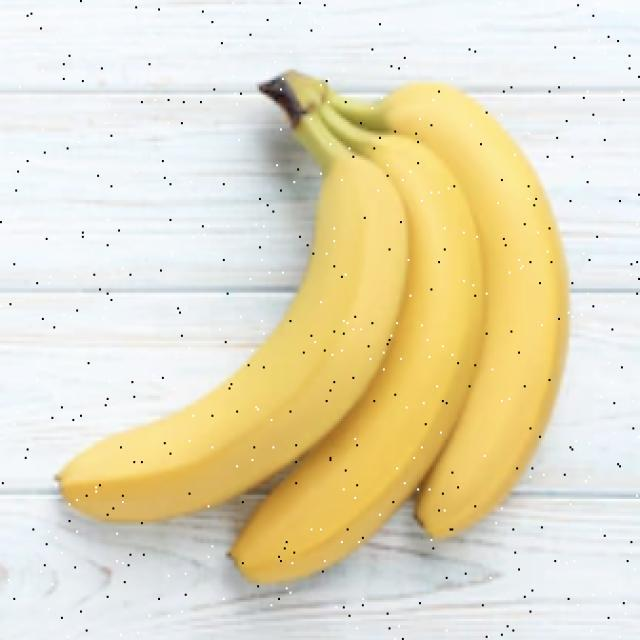Banana: (54, 68, 570, 587)
